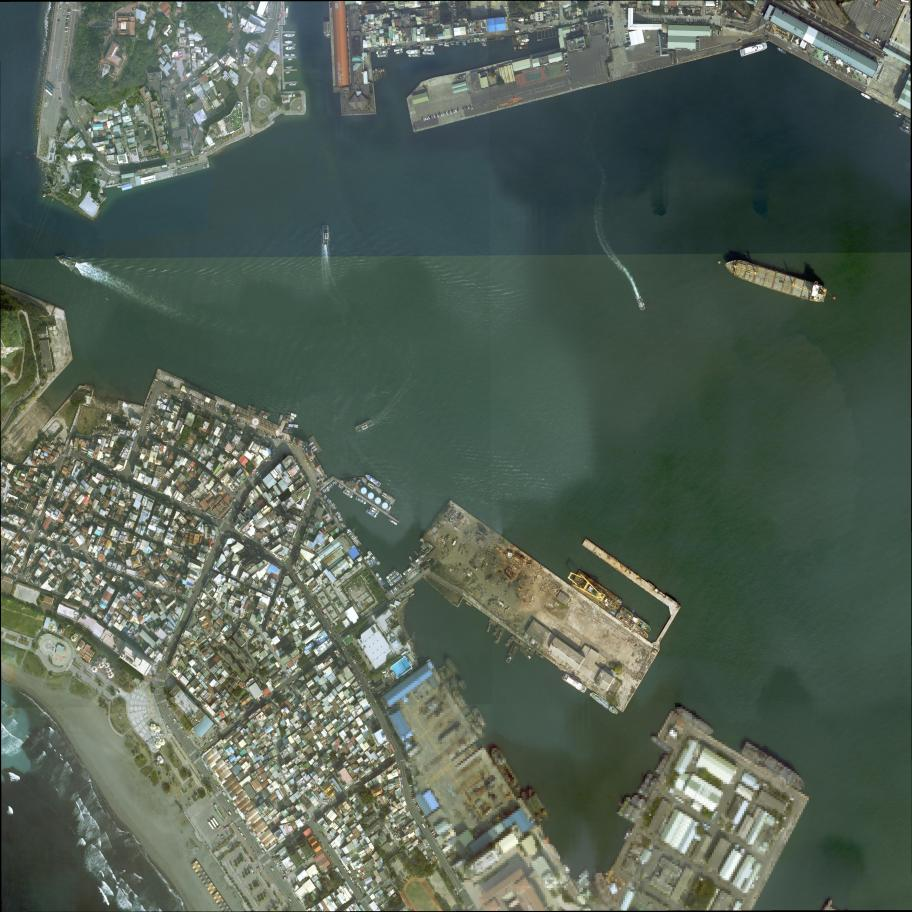large-vehicle: (212, 817, 219, 826), (45, 89, 53, 96), (47, 82, 54, 90), (211, 819, 217, 828), (46, 85, 53, 92), (208, 822, 214, 830), (874, 40, 880, 45), (422, 823, 426, 828), (228, 811, 232, 815), (289, 898, 292, 902), (271, 867, 274, 871)
ship: (723, 253, 829, 305), (615, 612, 650, 640), (619, 606, 653, 633), (588, 691, 620, 715), (561, 672, 589, 694), (739, 42, 768, 57), (53, 252, 77, 269), (364, 473, 382, 487), (493, 626, 506, 645), (367, 550, 381, 566), (355, 420, 373, 432), (513, 636, 528, 649), (388, 574, 403, 587), (519, 645, 532, 660), (387, 571, 400, 584), (374, 572, 386, 586), (511, 35, 519, 53), (504, 635, 516, 647), (898, 125, 912, 135), (385, 569, 397, 580), (443, 506, 454, 518), (365, 509, 378, 519), (492, 624, 502, 636), (322, 225, 328, 245), (363, 556, 373, 568), (446, 509, 456, 521), (324, 21, 331, 38), (402, 566, 413, 576), (355, 496, 367, 505), (861, 92, 873, 101), (448, 513, 458, 523), (343, 490, 354, 499), (387, 517, 398, 526), (776, 46, 787, 55), (282, 415, 294, 423), (638, 298, 646, 310), (405, 49, 420, 55), (366, 555, 375, 565), (536, 651, 546, 660), (370, 505, 381, 513), (369, 508, 379, 516), (902, 119, 912, 127), (902, 123, 912, 131), (257, 412, 268, 419), (376, 49, 388, 55), (374, 68, 380, 80), (345, 488, 354, 496), (277, 414, 283, 426), (259, 410, 271, 416), (287, 411, 297, 418), (285, 413, 295, 420), (283, 429, 294, 435), (246, 408, 257, 414), (525, 648, 534, 655), (372, 70, 377, 82), (285, 426, 295, 432), (283, 33, 295, 38), (904, 116, 912, 123), (457, 514, 464, 522), (377, 68, 382, 79), (377, 53, 388, 58), (495, 36, 506, 41), (518, 34, 529, 39), (519, 38, 530, 43), (516, 35, 521, 46), (287, 424, 298, 429), (893, 113, 902, 119), (873, 99, 882, 105), (421, 45, 434, 49), (382, 67, 387, 77), (894, 111, 904, 116), (423, 51, 435, 55), (285, 6, 289, 18), (464, 601, 472, 607), (247, 405, 256, 410), (409, 592, 416, 598), (520, 42, 530, 46), (380, 67, 384, 77), (285, 46, 295, 50), (394, 48, 403, 52), (408, 54, 420, 57), (284, 40, 293, 44), (408, 555, 413, 562), (487, 37, 495, 41), (518, 46, 528, 49), (396, 51, 403, 55), (424, 49, 433, 52), (443, 44, 450, 47), (286, 66, 293, 69), (482, 44, 487, 47), (289, 84, 296, 86), (439, 43, 443, 46), (481, 43, 487, 45), (444, 42, 449, 44), (455, 43, 460, 45), (117, 186, 121, 188), (467, 41, 471, 43), (455, 42, 460, 43)
small-vehicle: (316, 478, 321, 483), (218, 545, 222, 551), (189, 80, 194, 84), (178, 101, 182, 106), (222, 114, 227, 118), (245, 486, 250, 490), (334, 630, 338, 635), (338, 859, 342, 864), (96, 616, 101, 620), (186, 734, 190, 739), (178, 398, 183, 402), (143, 578, 148, 582), (254, 546, 259, 550), (236, 504, 240, 509), (202, 63, 206, 67), (231, 24, 235, 28), (150, 156, 154, 160), (79, 128, 83, 132), (279, 664, 283, 668), (313, 656, 317, 660), (278, 690, 282, 694), (207, 777, 211, 781), (261, 464, 265, 468), (303, 458, 307, 462), (341, 647, 345, 651), (326, 851, 330, 855), (328, 854, 332, 858), (347, 872, 351, 876), (355, 899, 359, 903), (455, 874, 459, 878), (424, 818, 428, 822), (423, 817, 427, 821), (421, 814, 425, 818), (418, 809, 422, 813), (319, 841, 323, 845), (444, 551, 448, 555), (353, 660, 357, 664), (108, 468, 112, 472), (39, 520, 43, 524), (70, 547, 74, 551), (209, 738, 213, 742), (232, 727, 236, 731), (307, 818, 311, 822), (294, 839, 298, 843), (279, 865, 283, 869), (280, 867, 284, 871), (228, 724, 232, 728), (179, 725, 183, 729), (253, 479, 257, 483), (256, 473, 260, 477), (162, 439, 166, 443), (191, 401, 195, 405), (177, 721, 181, 725), (149, 675, 153, 679), (159, 667, 163, 671), (264, 701, 268, 705), (229, 509, 233, 513), (207, 572, 211, 576), (177, 554, 181, 558), (241, 539, 245, 543), (176, 96, 179, 101), (188, 112, 191, 117), (77, 118, 80, 123), (198, 150, 201, 155), (190, 156, 195, 159), (143, 157, 146, 162), (426, 116, 429, 121), (440, 112, 443, 117), (431, 114, 434, 119), (245, 422, 248, 427), (278, 435, 281, 440), (350, 876, 353, 881), (236, 418, 239, 423), (137, 426, 140, 431), (20, 566, 23, 571), (83, 463, 86, 468), (232, 424, 237, 427), (904, 14, 907, 19), (216, 785, 219, 790), (238, 828, 241, 833), (182, 397, 187, 400), (190, 405, 195, 408), (177, 447, 182, 450), (209, 63, 213, 66), (185, 106, 188, 110), (182, 110, 185, 114), (184, 115, 187, 119), (186, 119, 189, 123), (244, 115, 248, 118), (245, 113, 249, 116), (245, 109, 249, 112), (235, 48, 238, 52), (180, 91, 183, 95), (195, 154, 199, 157), (184, 166, 188, 169), (181, 167, 185, 170), (145, 157, 148, 161), (148, 156, 151, 160), (153, 156, 156, 160), (155, 156, 158, 160), (163, 116, 166, 120), (161, 108, 164, 112), (188, 123, 191, 127), (433, 114, 436, 118), (565, 65, 569, 68), (625, 32, 629, 35), (626, 36, 630, 39), (593, 5, 597, 8), (610, 26, 614, 29), (609, 16, 613, 19), (566, 69, 570, 72), (435, 114, 438, 118), (449, 110, 452, 114), (469, 105, 472, 109), (132, 7, 135, 11), (65, 24, 69, 27), (263, 470, 267, 473), (231, 525, 234, 529), (220, 541, 223, 545), (243, 638, 246, 642), (248, 635, 251, 639), (203, 743, 207, 746), (317, 806, 321, 809), (320, 804, 324, 807), (318, 672, 321, 676), (305, 503, 309, 506), (313, 505, 317, 508), (300, 515, 304, 518), (345, 600, 349, 603), (315, 604, 318, 608), (324, 615, 327, 619), (268, 444, 271, 448), (142, 413, 145, 417), (147, 399, 150, 403), (120, 434, 124, 437), (265, 440, 269, 443), (289, 442, 293, 445), (308, 465, 311, 469), (316, 477, 320, 480), (270, 459, 274, 462), (271, 435, 274, 439), (271, 446, 274, 450), (271, 448, 275, 451), (330, 624, 333, 628), (328, 630, 331, 634), (325, 848, 328, 852), (356, 881, 359, 885), (358, 885, 361, 889), (344, 904, 348, 907), (460, 881, 463, 885), (437, 860, 440, 864), (432, 833, 436, 836), (431, 831, 435, 834), (412, 799, 416, 802), (412, 798, 416, 801), (411, 796, 415, 799), (317, 837, 320, 841), (328, 843, 331, 847), (390, 590, 393, 594), (427, 558, 431, 561), (319, 831, 322, 835), (360, 648, 363, 652), (365, 655, 368, 659), (368, 661, 371, 665), (349, 654, 352, 658), (368, 680, 372, 683), (373, 691, 377, 694), (367, 683, 370, 687), (401, 784, 404, 788), (409, 784, 413, 787), (72, 458, 75, 462), (93, 465, 97, 468), (109, 473, 113, 476), (146, 425, 150, 428), (146, 429, 150, 432), (142, 487, 146, 490), (49, 497, 52, 501), (50, 544, 54, 547), (56, 550, 59, 554), (60, 551, 63, 555), (105, 569, 109, 572), (656, 50, 660, 53), (243, 836, 246, 840), (252, 851, 256, 854), (291, 841, 294, 845), (234, 719, 238, 722), (255, 471, 258, 475), (164, 392, 168, 395), (221, 416, 225, 419), (141, 438, 144, 442), (139, 577, 143, 580), (168, 707, 171, 711), (162, 656, 165, 660), (251, 705, 254, 709), (173, 718, 176, 722), (135, 575, 139, 578), (171, 590, 175, 593), (192, 605, 195, 609), (184, 555, 188, 558), (210, 516, 214, 519), (246, 544, 250, 547), (160, 100, 162, 105), (184, 101, 186, 106), (193, 67, 195, 72), (429, 115, 431, 120), (442, 111, 444, 116), (444, 111, 446, 116), (468, 105, 470, 110), (269, 434, 271, 439), (306, 461, 308, 466), (647, 8, 649, 13), (713, 29, 715, 34), (180, 107, 183, 110), (193, 77, 196, 80), (166, 131, 169, 134), (565, 56, 568, 59), (598, 5, 601, 8), (625, 30, 628, 33), (65, 22, 68, 25), (66, 17, 69, 20), (292, 680, 295, 683), (324, 801, 327, 804), (340, 591, 343, 594), (347, 602, 350, 605), (318, 606, 321, 609), (245, 481, 248, 484), (273, 452, 276, 455), (259, 474, 262, 477), (418, 808, 421, 811), (417, 806, 420, 809), (416, 804, 419, 807), (414, 801, 417, 804), (392, 592, 395, 595), (447, 549, 450, 552), (386, 594, 389, 597), (393, 589, 396, 592), (400, 583, 403, 586), (51, 494, 54, 497), (61, 553, 64, 556), (201, 774, 204, 777), (204, 749, 207, 752), (237, 724, 240, 727), (883, 31, 886, 34), (250, 847, 253, 850), (182, 729, 185, 732), (248, 708, 251, 711), (406, 771, 410, 773), (275, 35, 279, 37), (275, 37, 279, 39), (240, 54, 242, 58), (241, 63, 243, 67), (423, 117, 425, 121), (181, 96, 183, 100), (108, 180, 110, 184), (113, 180, 115, 184), (203, 147, 207, 149), (140, 158, 142, 162), (142, 158, 144, 162), (147, 157, 149, 161), (162, 112, 164, 116), (425, 117, 427, 121), (428, 116, 430, 120), (564, 63, 568, 65), (586, 12, 588, 16), (624, 27, 628, 29), (624, 29, 628, 31), (655, 46, 659, 48), (609, 19, 613, 21), (437, 113, 439, 117), (446, 111, 448, 115), (453, 109, 455, 113), (457, 108, 459, 112), (464, 106, 466, 110), (466, 106, 468, 110), (642, 8, 644, 12), (66, 13, 70, 15), (66, 15, 70, 17), (65, 19, 69, 21), (64, 28, 68, 30), (64, 30, 68, 32), (644, 8, 646, 12), (245, 643, 247, 647), (320, 671, 322, 675), (239, 420, 241, 424), (243, 422, 245, 426), (144, 409, 146, 413), (149, 395, 151, 399), (270, 445, 272, 449), (256, 428, 258, 432), (273, 436, 275, 440), (275, 436, 277, 440), (392, 589, 394, 593), (241, 421, 243, 425), (19, 570, 21, 574), (196, 754, 198, 758), (729, 22, 733, 24), (715, 10, 717, 14), (710, 15, 714, 17), (717, 10, 719, 14), (277, 863, 279, 867), (178, 391, 180, 395), (182, 392, 184, 396), (184, 393, 186, 397), (189, 396, 191, 400), (191, 396, 193, 400), (193, 397, 195, 401), (195, 398, 197, 402), (197, 399, 199, 403), (200, 401, 202, 405), (202, 401, 204, 405), (204, 402, 206, 406), (208, 404, 210, 408), (212, 406, 214, 410), (213, 407, 215, 411), (215, 408, 217, 412), (168, 448, 172, 450), (167, 703, 169, 707), (180, 555, 182, 559), (243, 91, 246, 93), (275, 30, 278, 32), (99, 174, 102, 176), (178, 168, 181, 170), (195, 164, 198, 166), (164, 120, 166, 123), (601, 4, 604, 6), (627, 40, 630, 42), (610, 23, 613, 25), (610, 21, 613, 23), (550, 25, 553, 27), (455, 109, 457, 112), (448, 111, 450, 114), (462, 107, 464, 110), (129, 13, 131, 16), (411, 795, 414, 797), (265, 434, 268, 436), (355, 899, 357, 902), (146, 427, 149, 429), (676, 14, 679, 16), (696, 38, 699, 40), (688, 15, 691, 17), (696, 40, 699, 42), (696, 42, 699, 44), (895, 38, 897, 41), (282, 869, 284, 872), (206, 403, 208, 406), (227, 533, 230, 535), (600, 3, 604, 4), (610, 30, 614, 31), (610, 25, 614, 26), (633, 8, 634, 12), (635, 8, 636, 12), (637, 8, 638, 12), (638, 8, 639, 12), (452, 109, 453, 113), (67, 12, 71, 13), (57, 20, 61, 21), (640, 8, 641, 12), (146, 424, 150, 425), (649, 8, 650, 12), (718, 31, 719, 35), (210, 405, 211, 409), (275, 32, 278, 33), (564, 53, 567, 54), (65, 27, 68, 28), (710, 19, 713, 20)
storage-tank: (361, 487, 367, 494), (368, 493, 374, 500), (382, 502, 388, 509), (375, 498, 381, 504), (468, 23, 471, 26), (472, 22, 474, 24)
